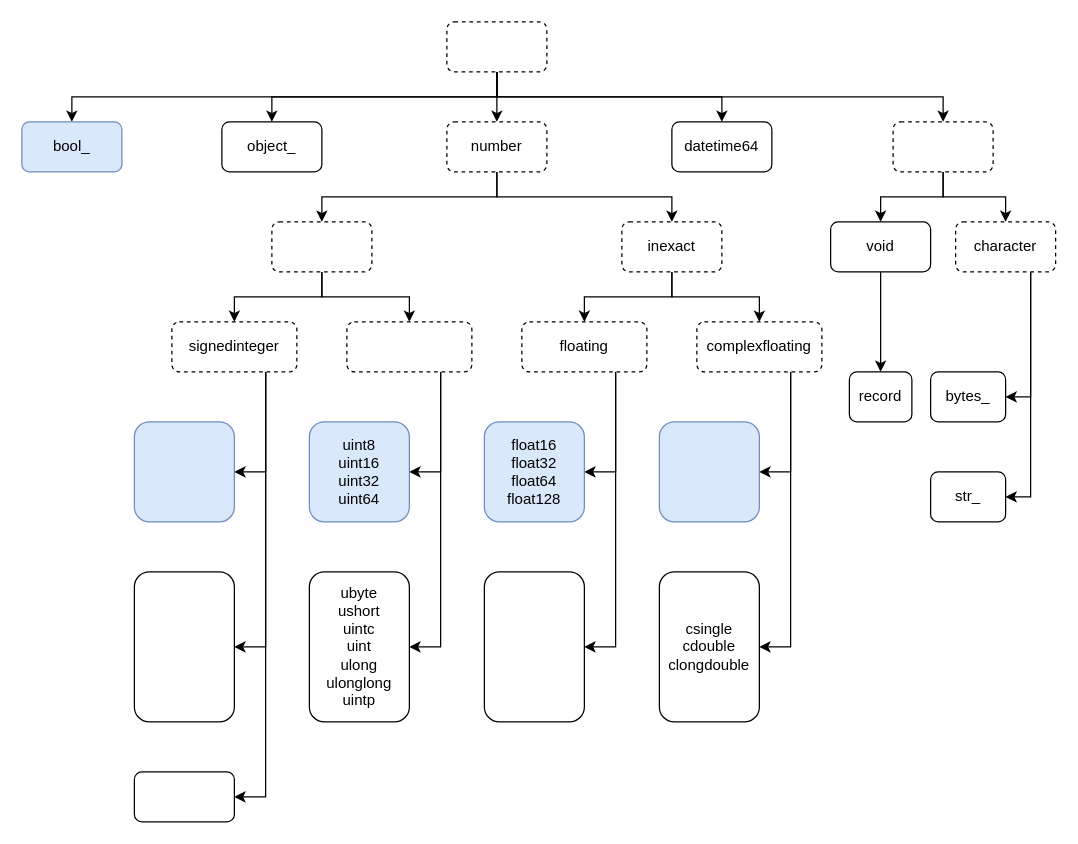
The diagram is 1078 pixels wide and 844 high, and some of its shapes have lost their labels. The centre of each missing label's shape, as x and y in pixels:
byte short intc int_ long longlong intp: the point at 183,646
complex64 complex128 complex256: the point at 708,471
flexible: the point at 942,146
generic: the point at 496,46
half single double longdouble: the point at 533,646
int8 int16 int32 int64: the point at 183,471
integer: the point at 321,246
timedelta64: the point at 183,796
unsignedinteger: the point at 409,346
